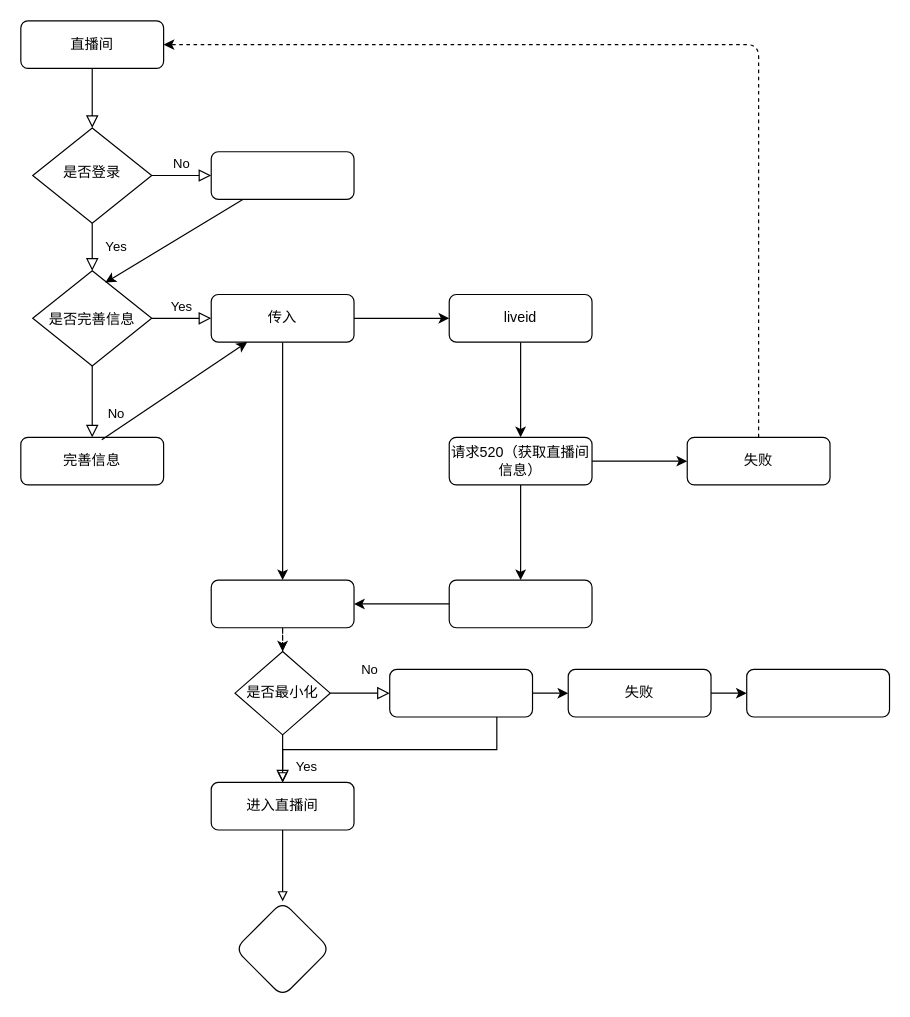
This 910x1017 diagram has some shape labels left out. The centre of each missing label's shape, as x and y in pixels:
roominfo: point (282, 603)
吐司提示: point (818, 692)
成功: point (520, 603)
是否主播: point (282, 948)
登录: point (282, 175)
请求305（加入房间）: point (461, 692)
